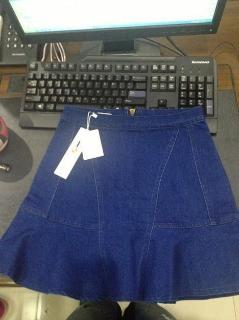skirt: (0, 104, 239, 303)
